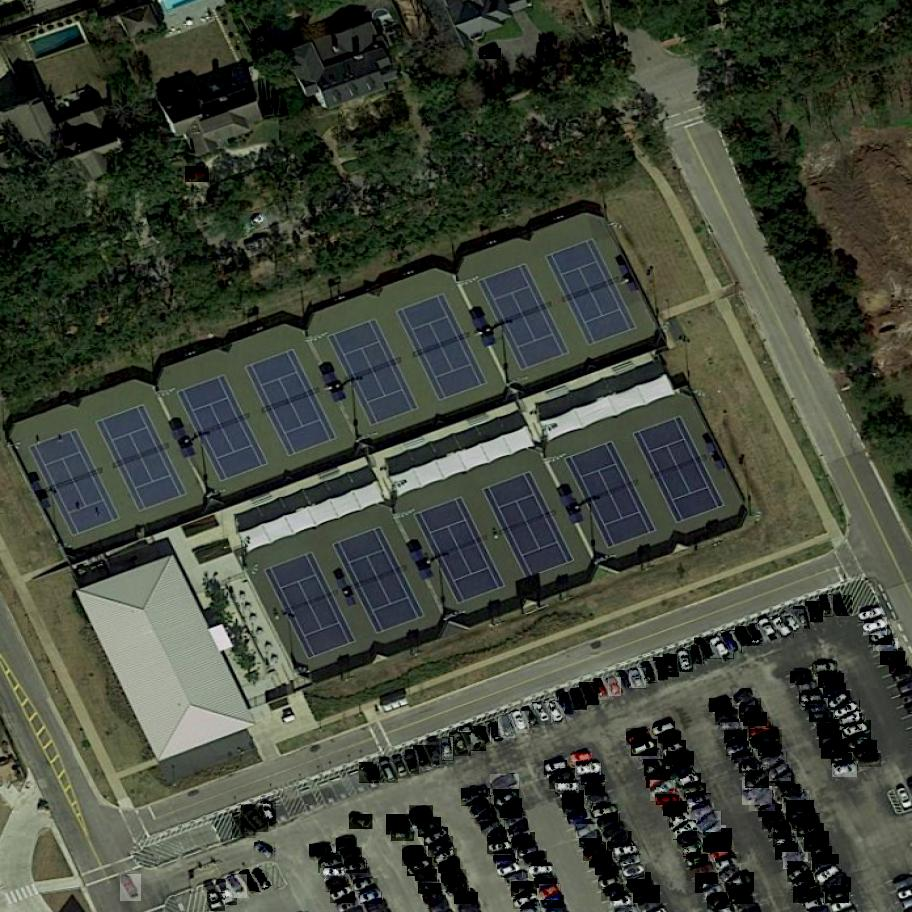small-vehicle: (242, 804, 270, 834), (742, 778, 772, 805), (459, 725, 486, 754), (750, 729, 783, 752), (704, 829, 733, 854), (794, 883, 825, 906), (782, 790, 809, 816), (240, 213, 268, 238), (786, 800, 815, 824), (490, 774, 520, 797), (757, 617, 782, 644), (232, 811, 256, 839), (359, 761, 384, 787), (710, 635, 734, 662), (121, 874, 143, 903), (687, 862, 717, 883), (725, 873, 755, 894), (603, 820, 629, 844), (770, 615, 794, 641), (250, 865, 273, 892), (789, 814, 821, 833), (779, 610, 804, 634), (749, 788, 775, 811), (748, 719, 774, 742), (651, 780, 677, 803), (673, 819, 699, 842), (822, 739, 848, 762), (819, 877, 852, 895), (441, 869, 468, 891), (549, 769, 576, 791), (815, 864, 842, 886), (803, 700, 831, 721), (812, 855, 840, 876), (695, 637, 718, 662), (805, 831, 830, 854), (470, 797, 495, 820), (386, 814, 411, 837), (429, 836, 454, 859), (762, 809, 788, 831), (494, 789, 520, 811), (239, 868, 260, 895), (450, 732, 471, 759), (461, 789, 492, 807), (627, 872, 651, 895), (670, 760, 694, 783), (842, 720, 871, 739), (607, 831, 632, 853), (698, 811, 723, 833), (407, 857, 433, 878), (846, 733, 872, 754), (583, 841, 607, 863), (481, 816, 505, 838), (403, 845, 427, 867), (828, 690, 852, 712), (721, 630, 742, 655), (227, 874, 248, 899), (424, 827, 449, 848), (788, 862, 813, 883), (731, 750, 757, 770), (633, 885, 660, 904), (379, 757, 398, 784), (834, 701, 861, 720), (739, 699, 762, 721), (500, 798, 523, 820), (760, 752, 788, 770), (410, 806, 434, 827), (776, 841, 800, 862), (514, 890, 538, 911), (745, 770, 769, 791), (853, 741, 877, 762), (639, 660, 659, 685), (433, 849, 458, 869), (417, 817, 442, 837), (708, 892, 733, 912), (820, 730, 845, 750), (601, 884, 627, 903), (717, 854, 743, 873), (690, 804, 716, 823), (631, 739, 658, 757), (319, 855, 346, 873), (424, 888, 446, 910), (719, 862, 741, 884), (817, 717, 840, 738), (696, 873, 719, 894), (545, 701, 566, 724), (769, 762, 792, 783), (580, 683, 600, 707), (646, 769, 670, 789), (331, 885, 355, 905), (533, 702, 553, 726), (521, 706, 541, 730), (678, 831, 702, 851), (591, 804, 619, 821), (834, 593, 853, 618), (414, 744, 433, 769), (494, 850, 519, 869), (510, 711, 529, 736), (392, 754, 411, 779), (325, 875, 351, 893), (863, 617, 889, 635), (511, 881, 537, 899), (498, 861, 524, 879), (791, 873, 817, 891), (563, 789, 585, 810), (664, 740, 686, 761), (869, 626, 892, 646), (711, 845, 734, 865), (499, 713, 516, 740), (616, 669, 635, 693), (512, 832, 536, 851), (505, 810, 529, 829), (784, 853, 809, 871), (729, 888, 754, 906), (260, 800, 276, 828), (667, 752, 695, 768), (309, 844, 335, 861), (255, 842, 276, 863), (806, 600, 824, 624), (627, 728, 651, 746), (590, 850, 614, 868), (593, 678, 611, 702), (597, 813, 621, 831), (623, 864, 647, 882), (570, 687, 587, 712), (644, 760, 669, 777), (858, 606, 883, 623), (663, 653, 680, 678), (794, 605, 811, 630), (734, 687, 756, 706), (818, 674, 844, 690), (474, 810, 500, 826), (798, 823, 824, 839), (568, 809, 591, 827), (563, 801, 586, 819), (716, 709, 740, 726), (823, 683, 847, 700), (185, 166, 209, 183), (438, 859, 462, 876), (724, 730, 749, 746), (619, 855, 644, 871), (687, 794, 712, 810), (353, 878, 378, 894), (663, 802, 688, 818), (687, 854, 709, 872), (703, 883, 725, 901), (704, 824, 727, 841), (630, 668, 647, 691), (405, 749, 420, 775), (825, 889, 851, 904), (653, 657, 669, 681), (524, 852, 548, 868), (599, 875, 623, 891), (890, 657, 911, 675), (431, 740, 445, 767), (540, 884, 561, 902), (742, 712, 767, 727), (881, 651, 906, 666), (560, 691, 575, 716), (735, 626, 752, 648), (337, 837, 359, 854), (506, 871, 529, 887), (508, 822, 531, 838), (340, 848, 363, 864), (653, 721, 676, 737), (544, 760, 567, 776), (873, 638, 899, 652), (576, 763, 602, 777), (677, 774, 701, 789), (349, 814, 373, 829), (678, 649, 693, 673), (640, 750, 662, 766), (489, 721, 505, 743), (576, 824, 598, 840), (488, 843, 513, 857), (727, 744, 753, 757), (613, 847, 639, 860), (832, 764, 858, 777), (819, 594, 833, 618), (858, 753, 882, 767), (658, 731, 682, 745), (778, 784, 802, 798), (476, 726, 492, 747), (669, 814, 693, 828), (541, 895, 565, 909), (795, 682, 819, 696), (709, 699, 732, 713), (840, 713, 863, 727), (517, 845, 538, 860), (803, 897, 824, 912), (454, 892, 478, 905), (758, 805, 782, 818), (344, 860, 368, 873), (750, 623, 763, 646), (692, 642, 705, 665), (684, 784, 707, 797), (352, 869, 373, 883), (579, 836, 603, 848), (571, 753, 593, 766), (415, 869, 437, 882), (222, 889, 237, 908), (791, 671, 814, 683), (611, 898, 634, 910), (774, 836, 797, 848), (683, 846, 706, 858), (813, 662, 836, 674), (361, 892, 382, 905), (609, 676, 622, 697), (810, 713, 834, 724), (769, 776, 795, 786), (443, 738, 454, 761), (740, 763, 763, 774), (800, 693, 823, 704), (487, 831, 508, 843), (479, 48, 501, 59), (419, 883, 441, 894), (831, 754, 854, 764), (588, 797, 611, 807), (657, 795, 680, 805), (556, 783, 579, 793), (530, 867, 555, 876), (768, 827, 790, 837), (812, 847, 832, 858), (535, 878, 556, 888), (759, 746, 780, 756), (321, 870, 347, 878), (582, 776, 605, 785), (720, 722, 743, 731), (446, 885, 469, 893), (596, 867, 618, 875), (392, 833, 414, 841), (585, 786, 604, 795)
